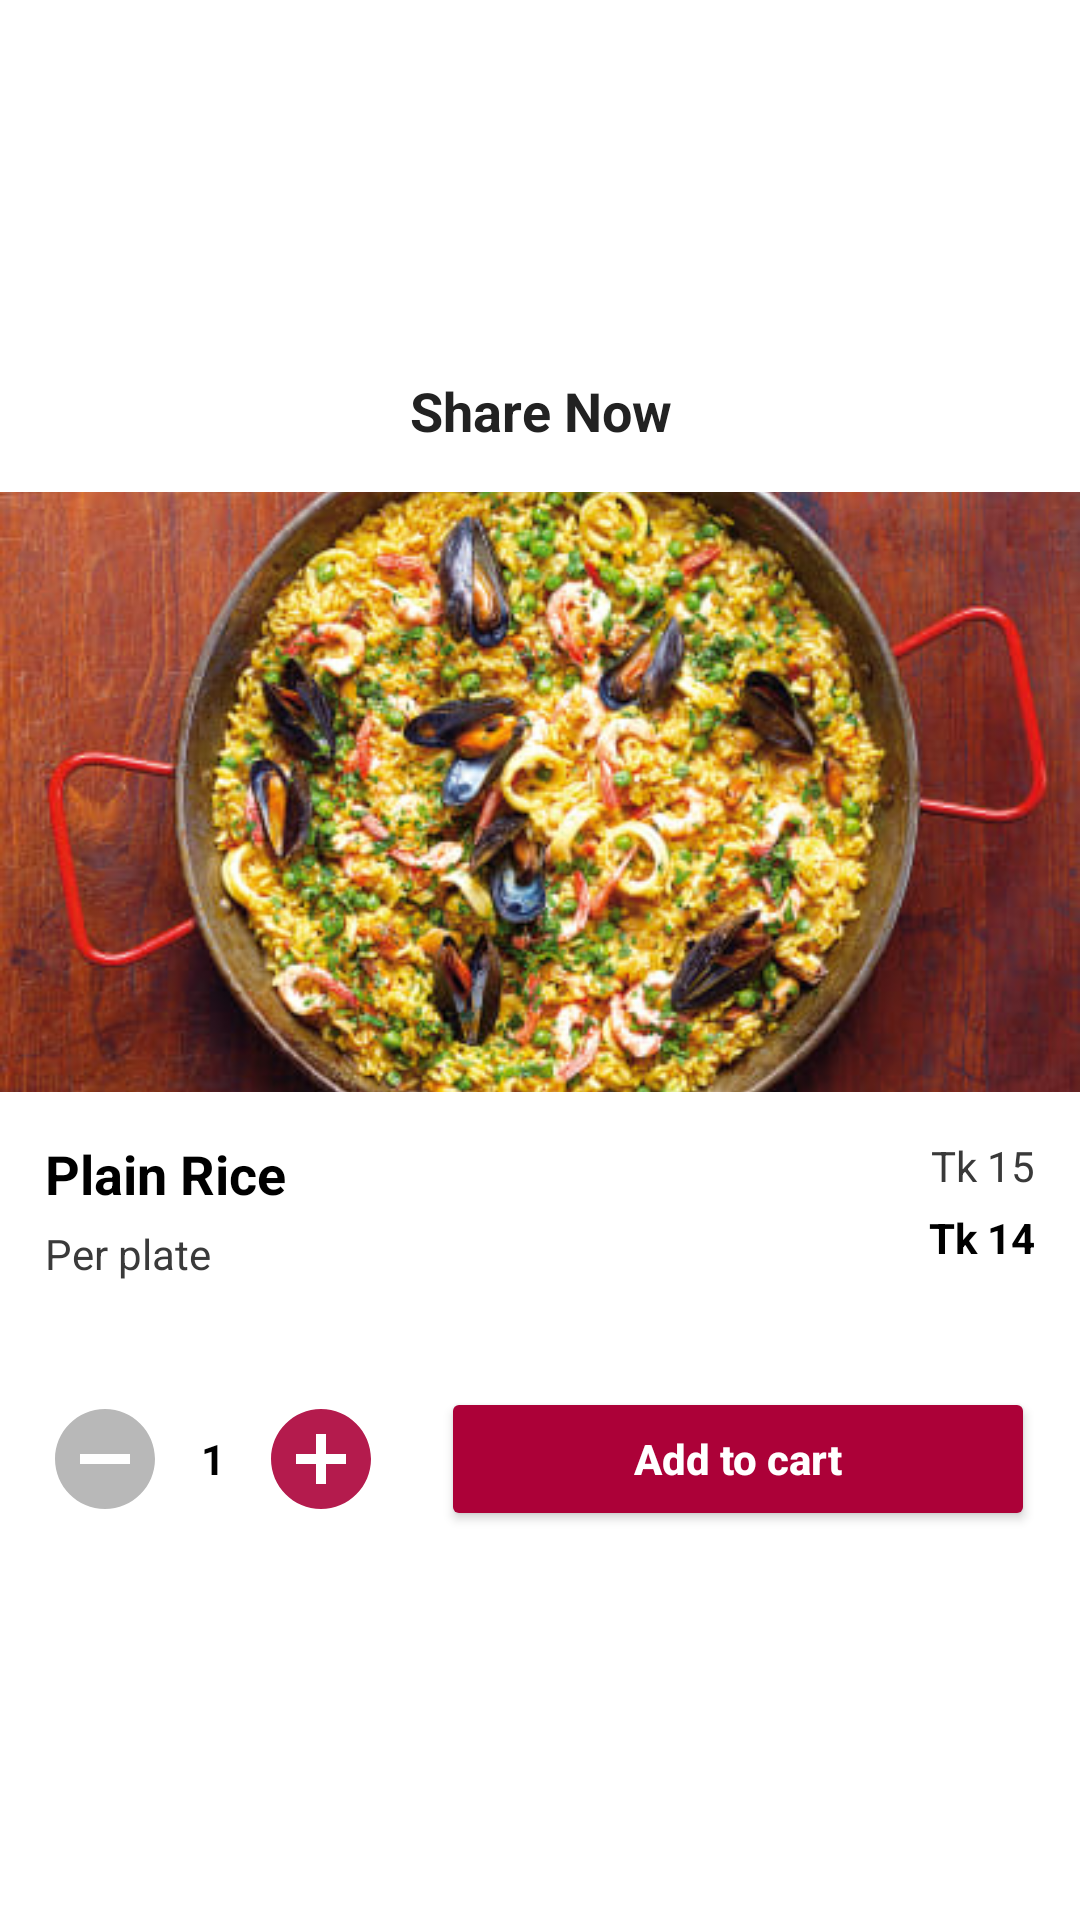

Icon click points for this 1080×1920 phone screenshot, format [x,y]:
add item: [321,1459]
remove item invisible: [105,1459]
